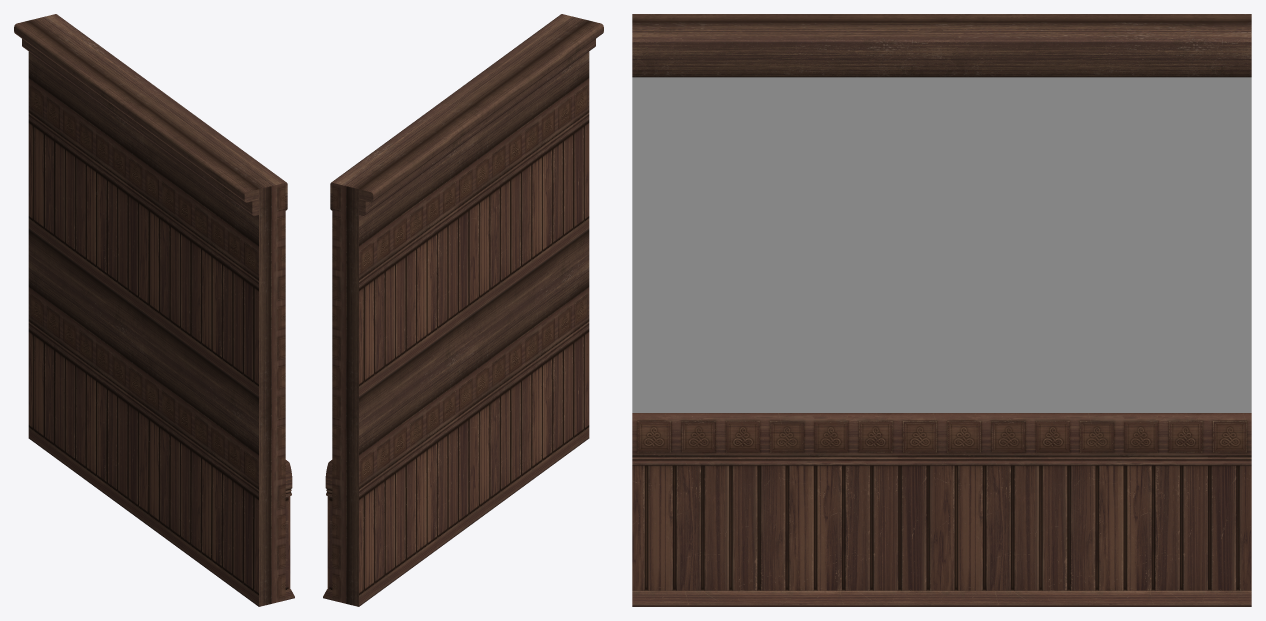
The model's file is Wall3x3.fbx.
3 renders of one model, left to right at view 1: azimuth 30°, elevation 25°; view 2: azimuth 150°, elevation 25°; view 3: azimuth 270°, elevation 25°, orthographic. The views are drawn at different scales.
Parts seen in each view (by area): view 1: SM_Vintage_Wall_Module_3x3_FixedMat_LOD0; view 2: SM_Vintage_Wall_Module_3x3_FixedMat_LOD0; view 3: SM_Vintage_Wall_Module_3x3_FixedMat_LOD0.
Part boxes in pixels (x1=…): SM_Vintage_Wall_Module_3x3_FixedMat_LOD0: x1=14, y1=14, x2=294, y2=606; SM_Vintage_Wall_Module_3x3_FixedMat_LOD0: x1=323, y1=14, x2=603, y2=606; SM_Vintage_Wall_Module_3x3_FixedMat_LOD0: x1=632, y1=14, x2=1251, y2=606.
Bounding box in the file's own units: 37.79 × 300 × 300.
